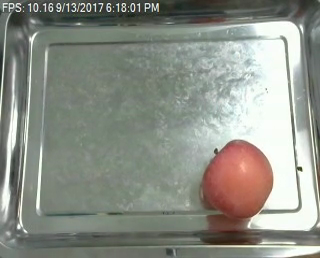Apple: (197, 137, 274, 223)
